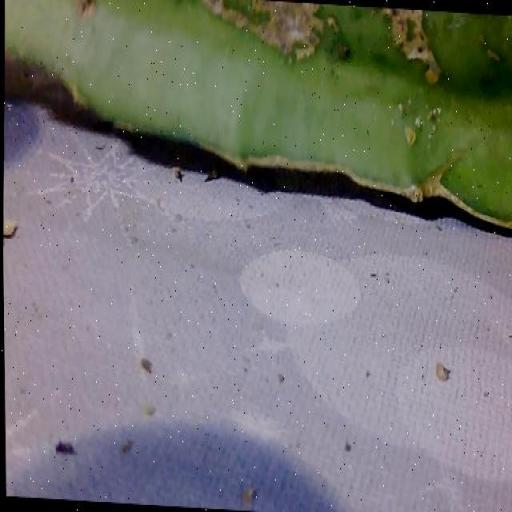stemcanker: (407, 342, 421, 367), (429, 369, 447, 384), (431, 350, 441, 367), (416, 362, 426, 379), (401, 375, 408, 392), (411, 384, 416, 396)
